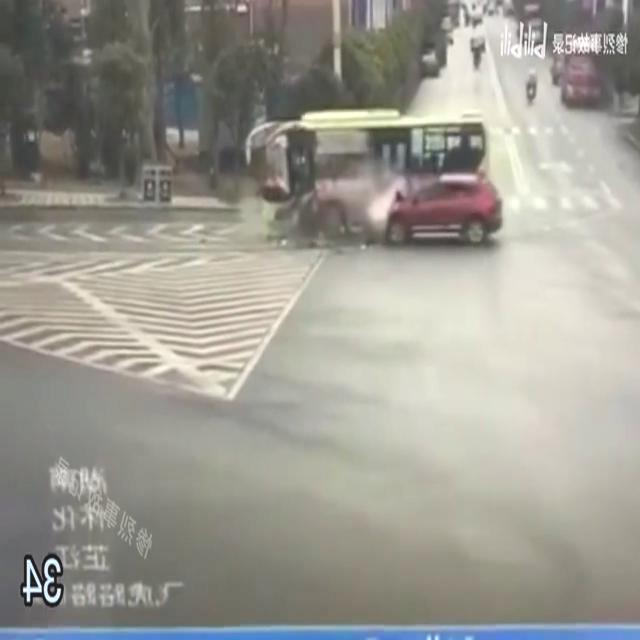accident: (243, 107, 503, 253)
non-accident: (418, 27, 454, 77), (469, 33, 487, 69)
